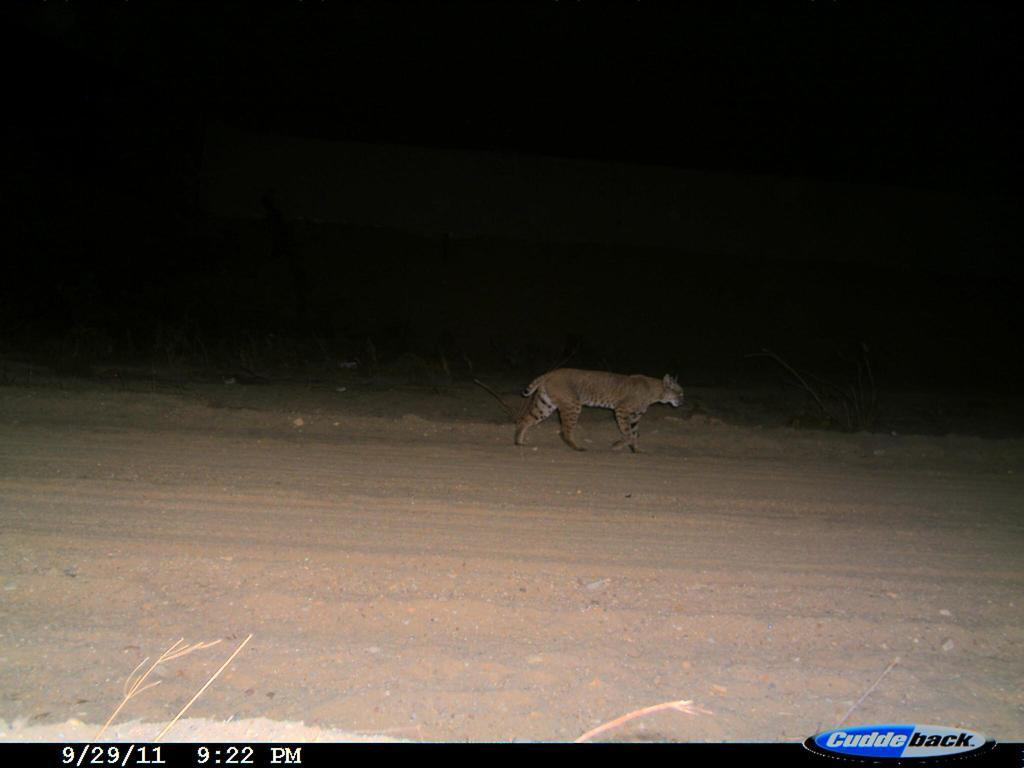bobcat: (505, 353, 707, 463)
